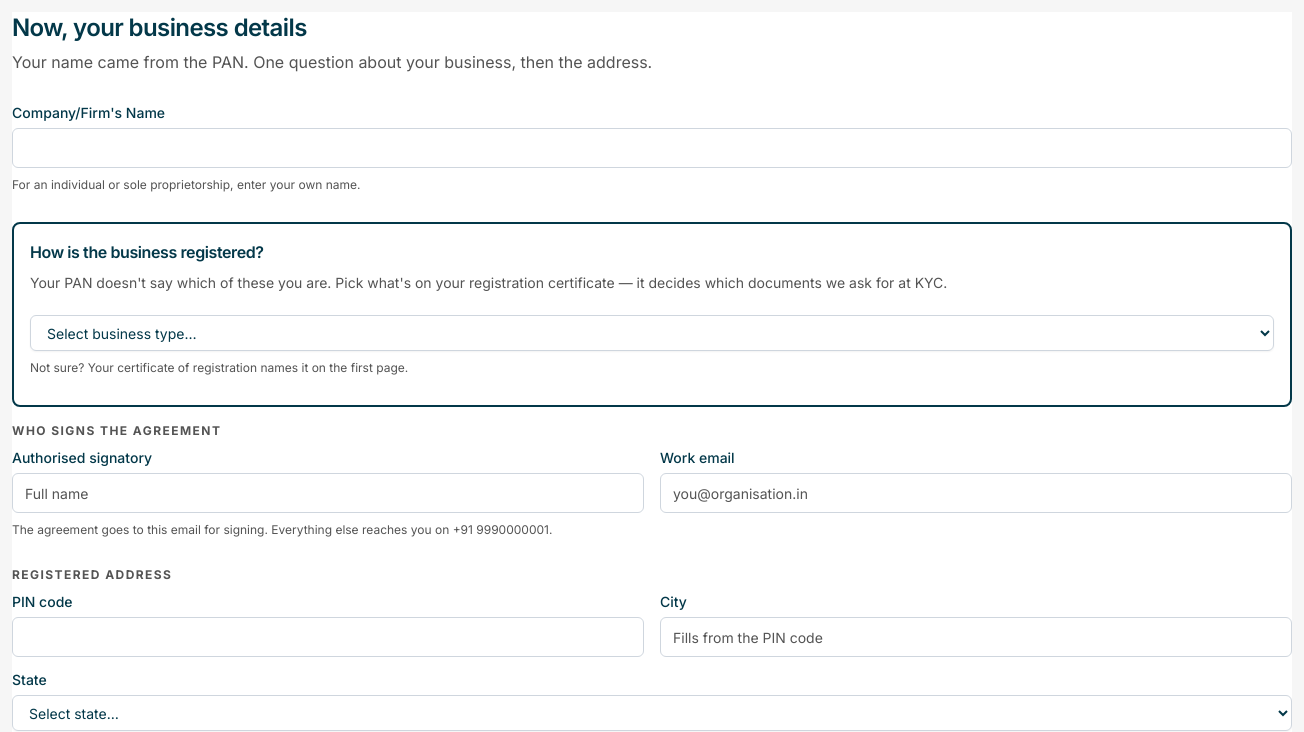
Test: BusinessStep PIN code lookup › leaves the dropdown alone for a state it cannot match
This screenshot has width=1304, height=732.
Type "194101" into the field labelled "PIN code". click: coordinates (328, 637)
box: [12,617,644,657]
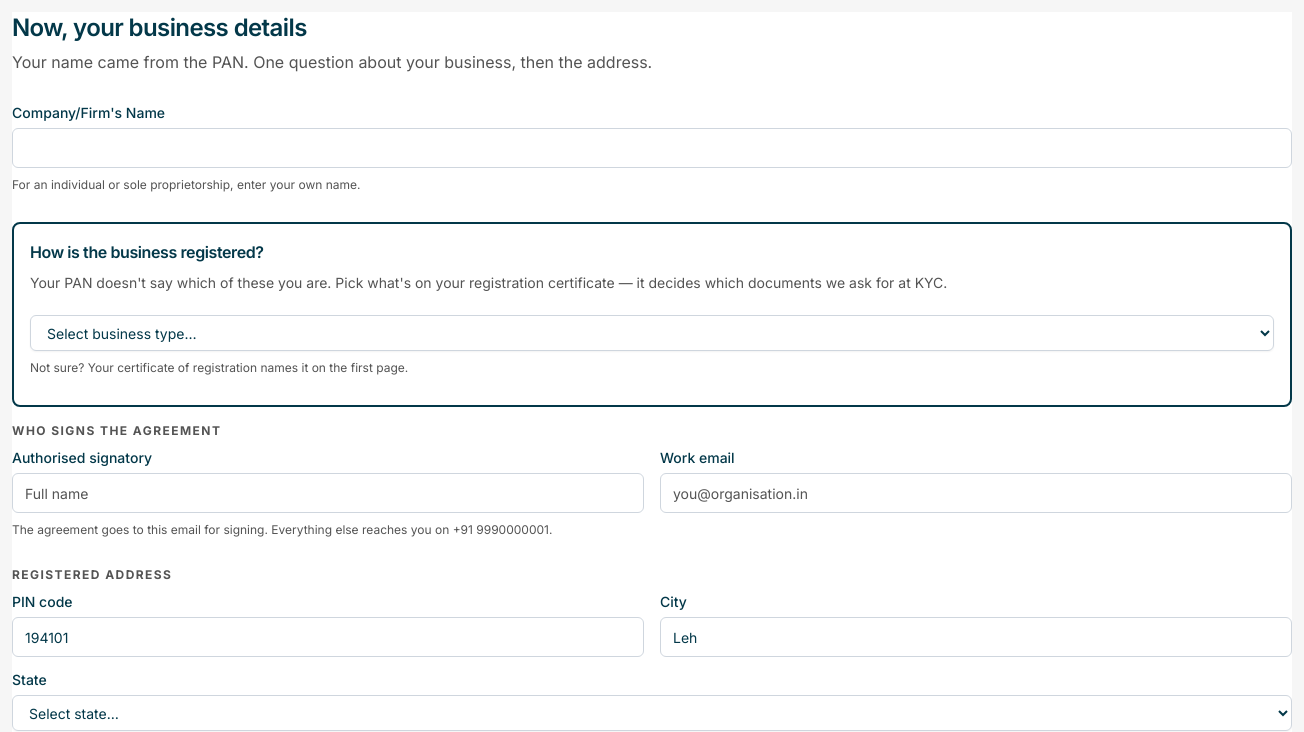
Expected: the dropdown labelled "State" shows "Select state…", [12,695,1292,731]
Now the field labelled "City" holds "Leh", box [660,617,1292,657]
